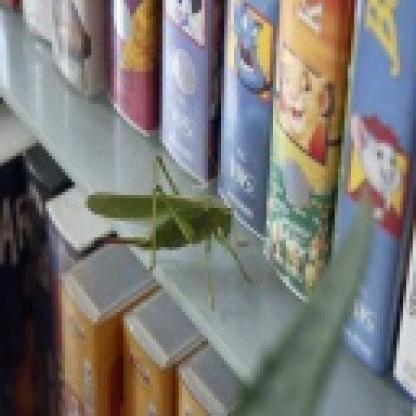grasshopper: (81, 154, 263, 280)
